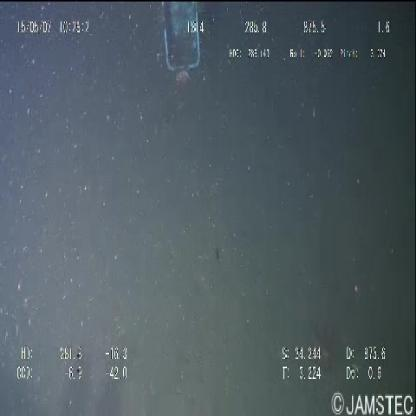Rác: (158, 2, 204, 83)
